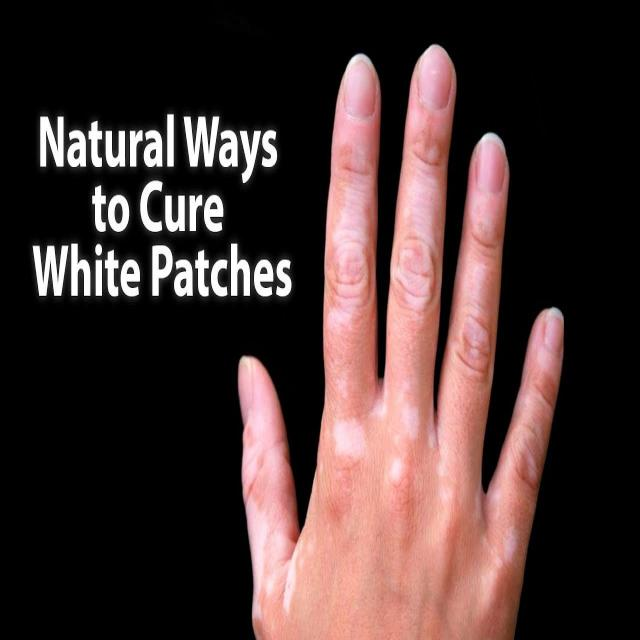vitiligo: (245, 380, 523, 635)
